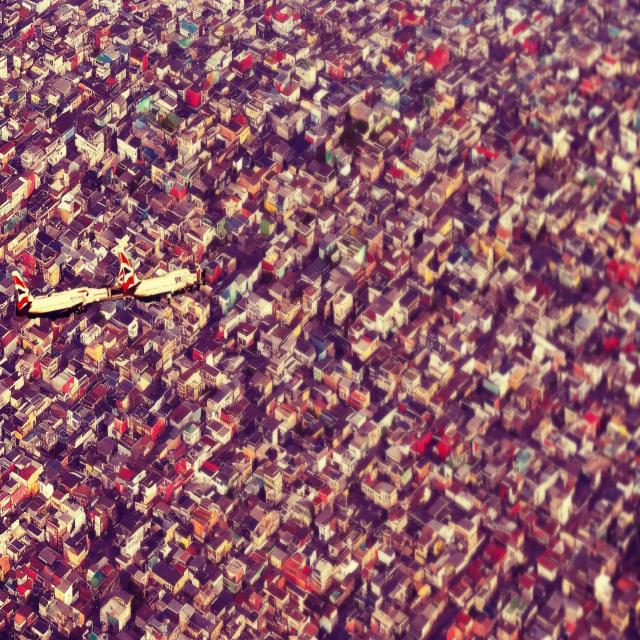airplane: (113, 250, 202, 302), (11, 268, 111, 313)
